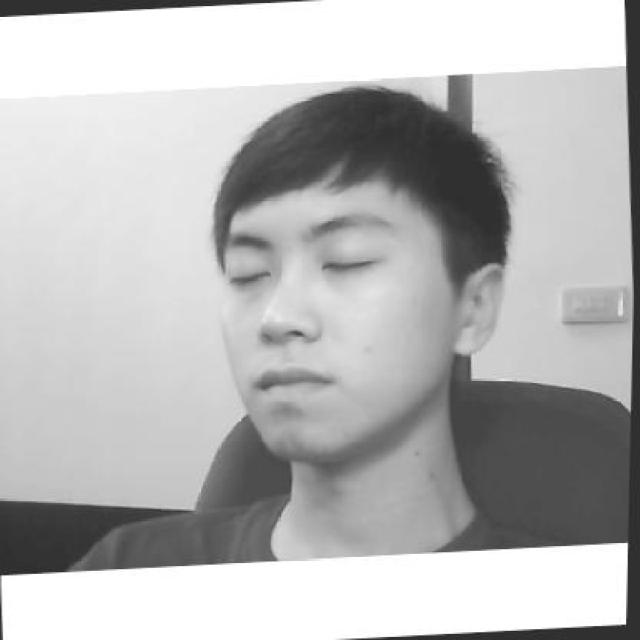inattentif: (202, 76, 520, 462)
